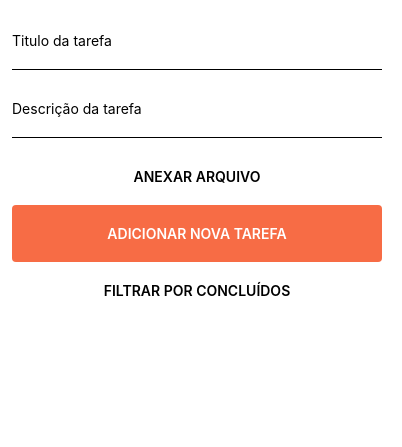
Test: TodoList › adds a new item to the list
Type "New Task" into the field with test id "input-title". click: (197, 41)
box: [12,12,382,70]
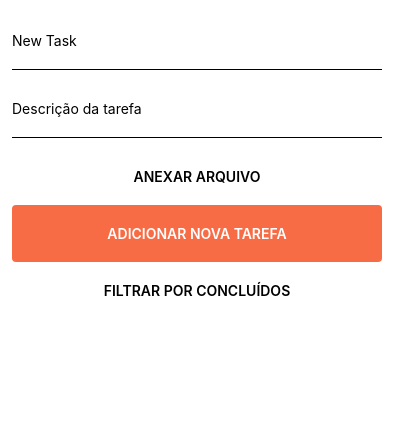
Type "Description for the task" into the field with test id "input-description". click: (197, 109)
box: [12,80,382,138]
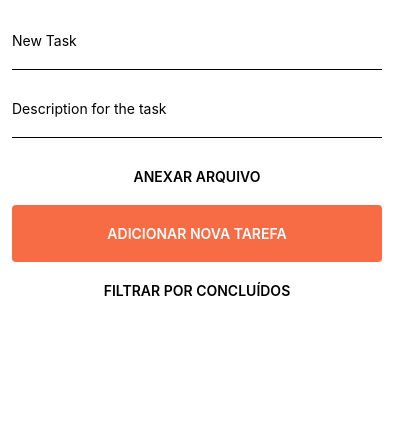
Click the element with test id "btn-add-item". click: (197, 234)
box: [12,205,382,262]
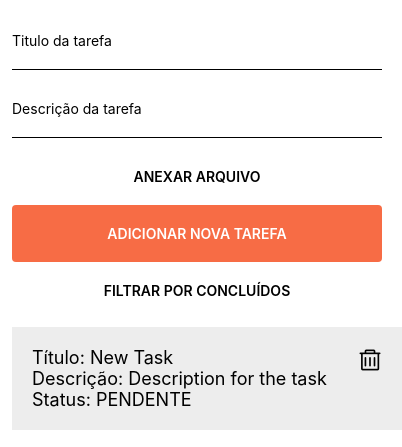
Expected: the text "Título: New Task" is shown, [32,347,173,368]
